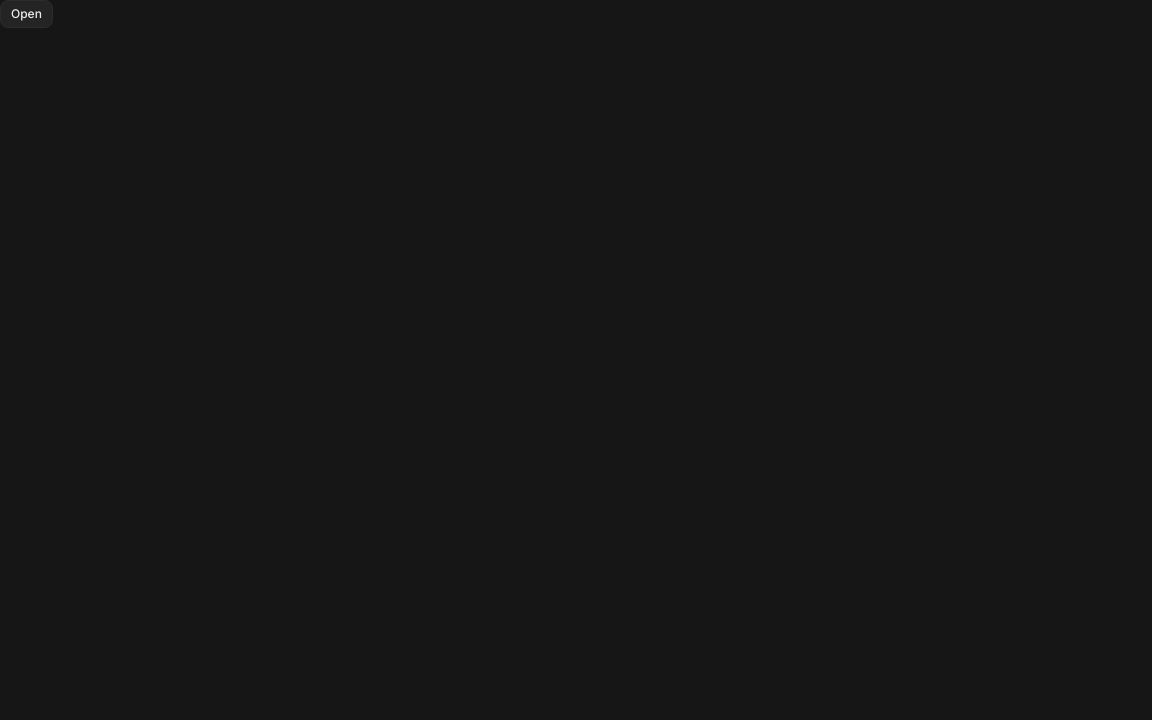
Scenario: PickerMenu › closes on Escape and returns focus to the trigger
Click the button "Open". click: (26,14)
box: [0,0,53,28]
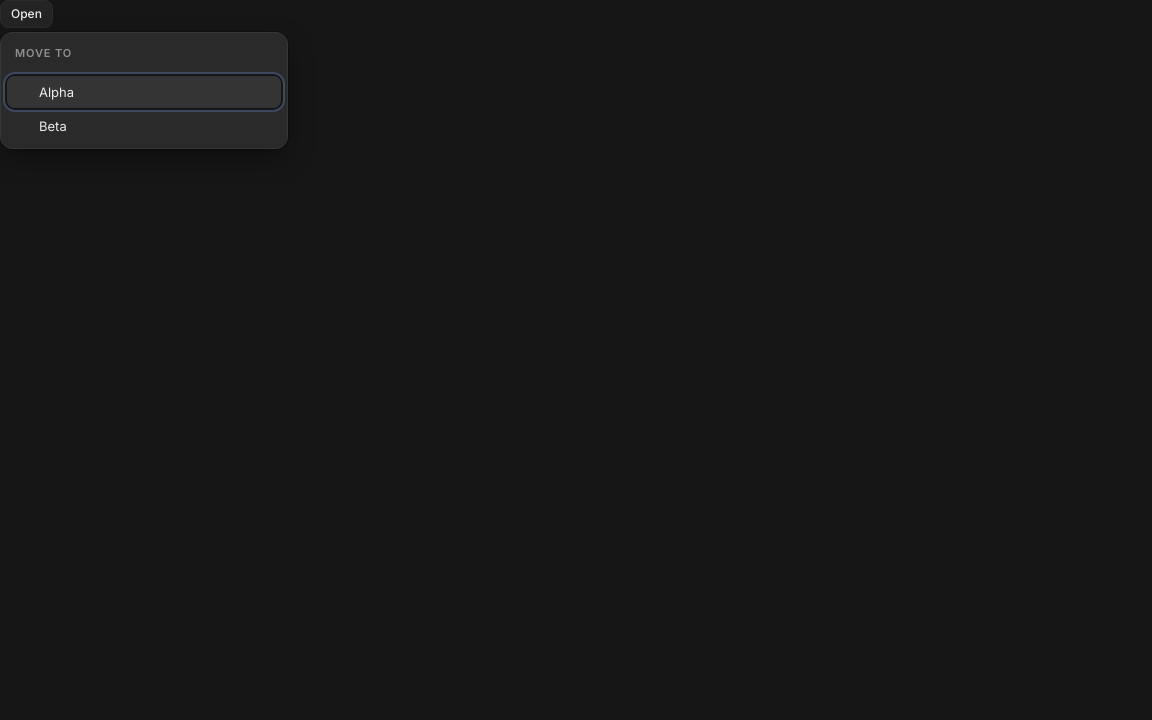
Press Escape in the button "Alpha", box [7,76,281,108]
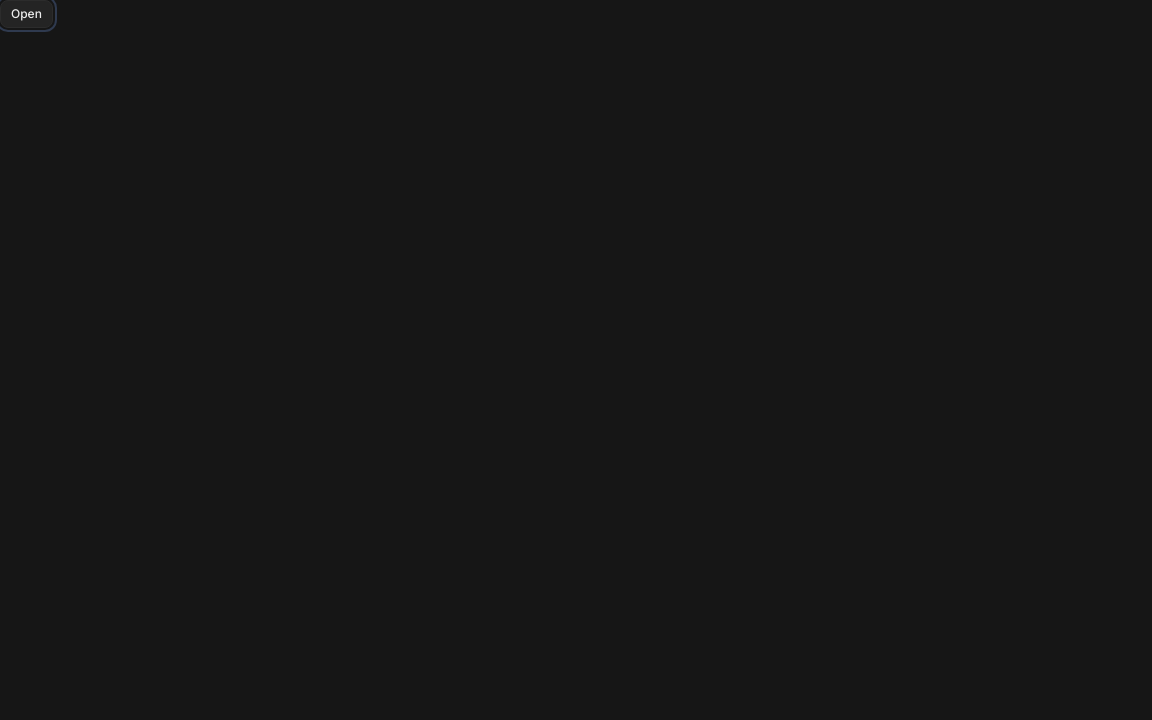
Now the dialog is gone
